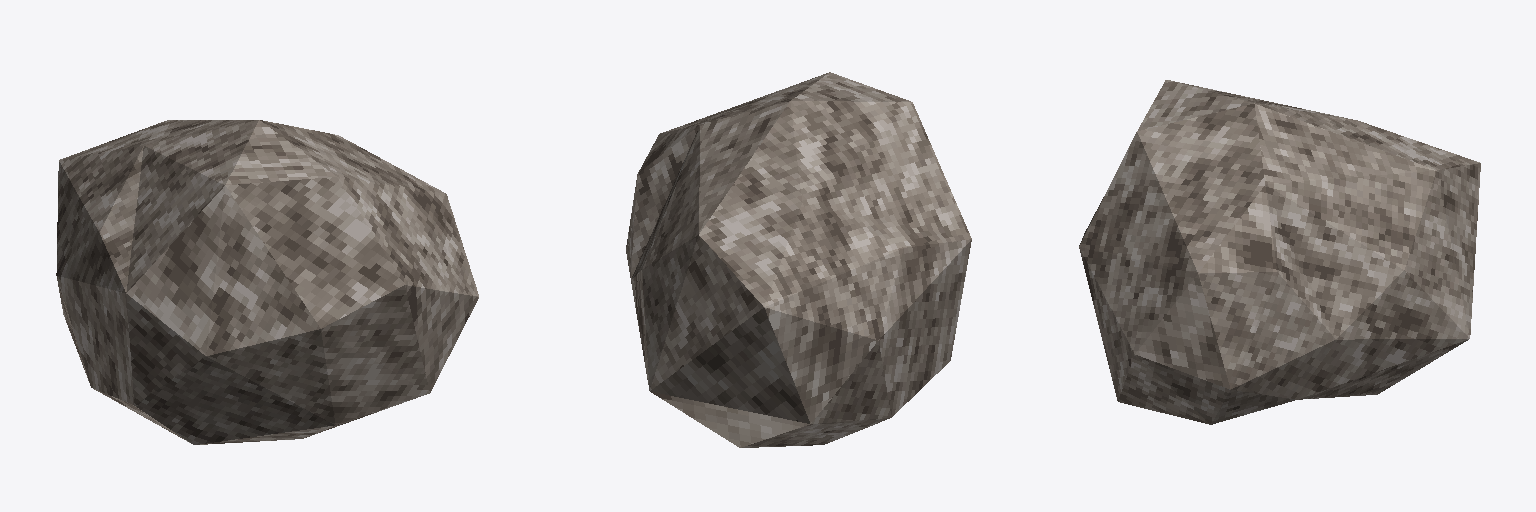
3 renders of one model, left to right at view 1: azimuth 30°, elevation 25°; view 2: azimuth 150°, elevation 25°; view 3: azimuth 270°, elevation 25°, orthographic.
Parts seen in each view (by area): view 1: lboulderreg_1; view 2: lboulderreg_1; view 3: lboulderreg_1.
Boxes of the visible parts, <box> form: lboulderreg_1: <box>56,120,478,444</box>; lboulderreg_1: <box>626,72,971,447</box>; lboulderreg_1: <box>1079,80,1480,424</box>.
Size of the model in its own units: 2.08 by 1.76 by 2.17.
1 materials, 1 textured.